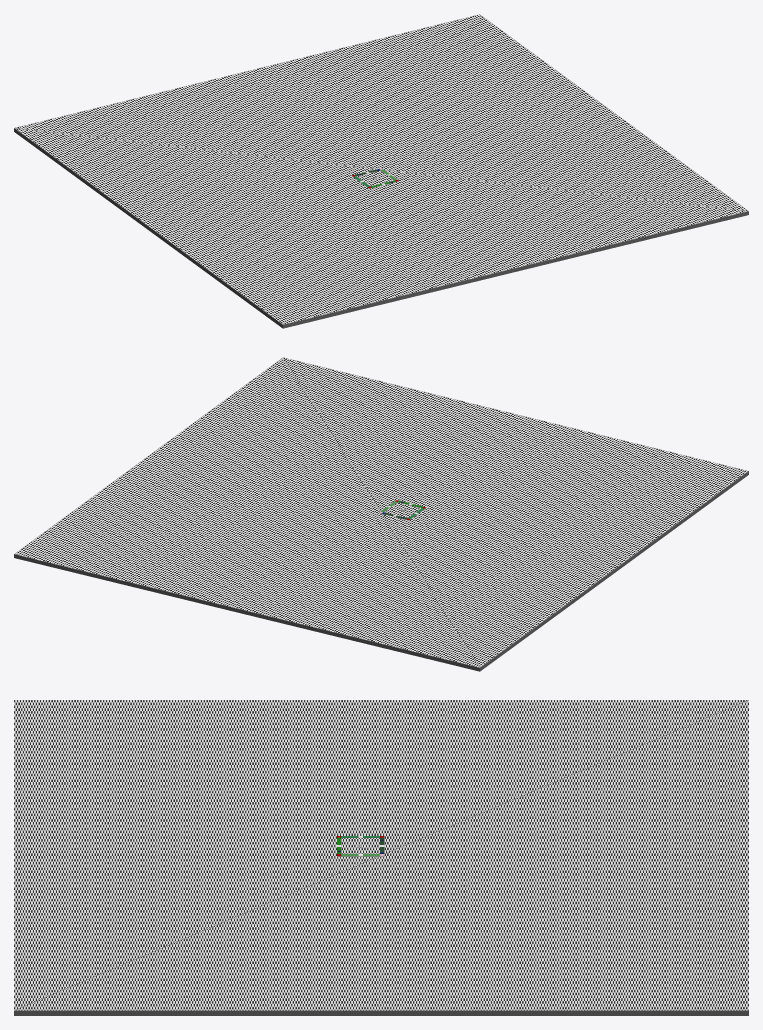
The picture shows the model from 3 angles, top to bottom: view 1: azimuth 30°, elevation 25°; view 2: azimuth 150°, elevation 25°; view 3: azimuth 270°, elevation 25°; orthographic projection. The views are drawn at different scales.
Visible parts, largest first — view 1: Texture, Baseplate; view 2: Texture, Baseplate; view 3: Texture, Baseplate.
Boxes of the visible parts, x1,y1,x2,y2 form: Texture: [14, 14, 748, 324]; Baseplate: [14, 128, 748, 328]; Texture: [14, 357, 748, 667]; Baseplate: [14, 471, 748, 671]; Texture: [14, 700, 748, 1010]; Baseplate: [14, 1010, 748, 1015].
Size of the model in its own units: 2048 by 17 by 2048.
12 materials, 1 textured.
